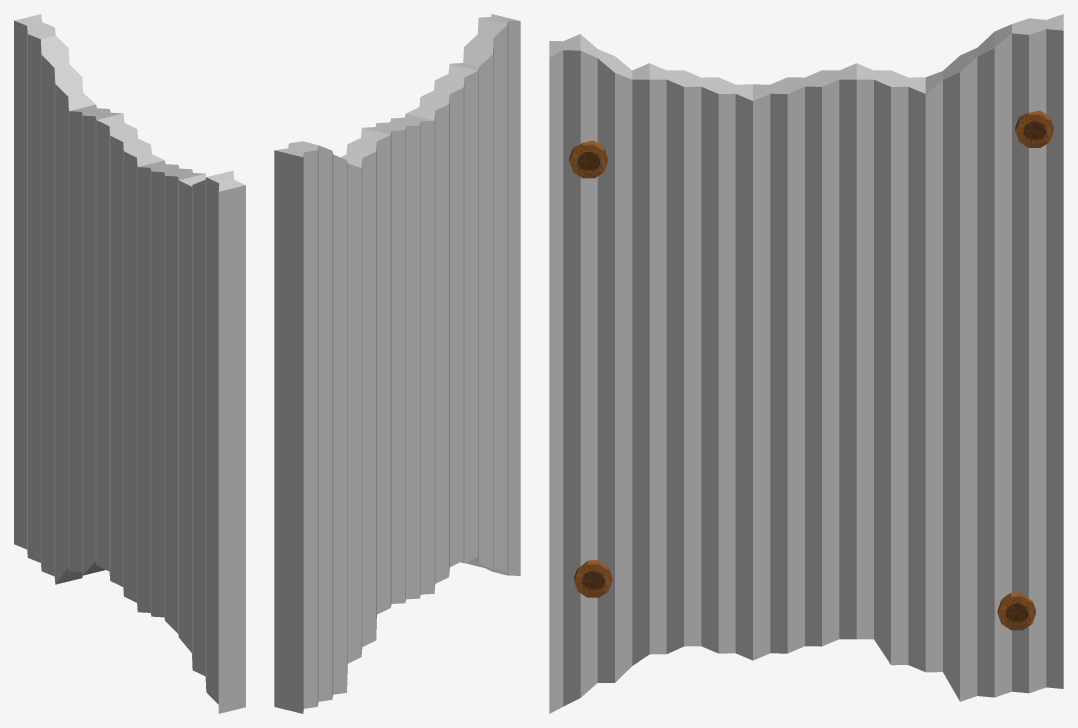
File: Metal Plate 2.fbx
3 views of the same model, side by side, from view 1: azimuth 30°, elevation 25°; view 2: azimuth 150°, elevation 25°; view 3: azimuth 270°, elevation 25° (orthographic). The views are drawn at different scales.
Visible parts, largest first — view 1: Cube.001; view 2: Cube.001; view 3: Cube.001.
Part boxes in pixels (x1,y1,x2,y2): Cube.001: (14, 14, 245, 713); Cube.001: (274, 14, 520, 713); Cube.001: (549, 14, 1063, 713).
Bounding box in the file's own units: 18.06 × 304 × 208.
